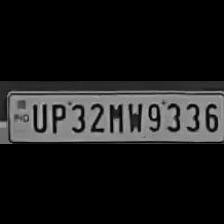2: (87, 98, 105, 132)
3: (162, 98, 182, 132), (68, 98, 86, 132), (182, 98, 200, 132)
6: (200, 98, 220, 132)
9: (144, 97, 162, 130)
M: (105, 98, 125, 132)
P: (47, 99, 66, 133)
U: (28, 98, 48, 132)
W: (125, 98, 143, 132)
